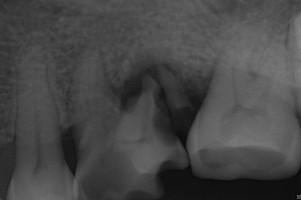Endo-Periodontal Lesion: (118, 51, 214, 107)
